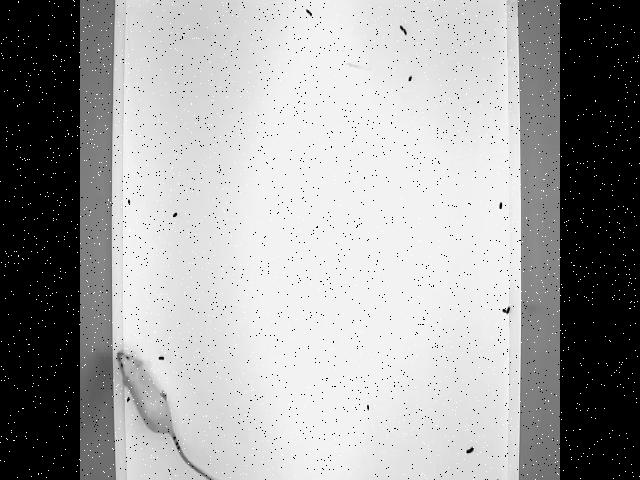Tikus: (120, 308, 224, 480)
